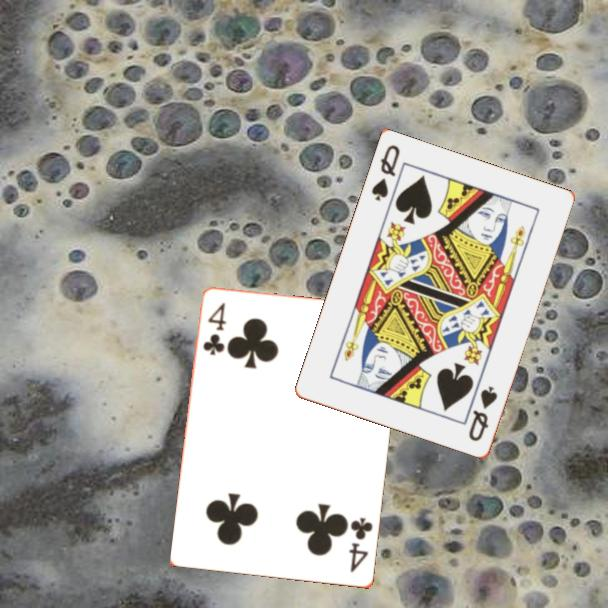c04: (346, 514, 376, 576), (200, 299, 229, 358)
s12: (465, 383, 501, 445), (368, 142, 403, 205)
